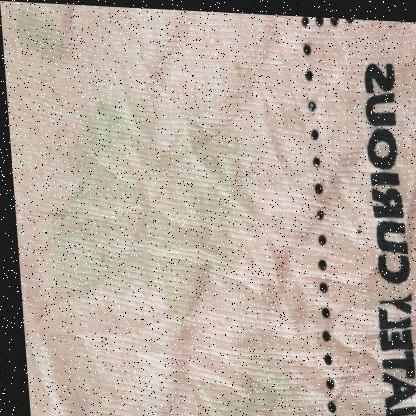spot: (131, 142, 200, 318), (93, 97, 152, 302), (182, 102, 248, 268), (41, 209, 110, 300), (223, 338, 282, 416), (271, 369, 327, 416), (18, 13, 63, 66), (76, 101, 113, 155), (195, 384, 252, 416), (69, 158, 104, 188), (62, 192, 85, 225), (232, 52, 247, 89), (347, 218, 365, 243)
